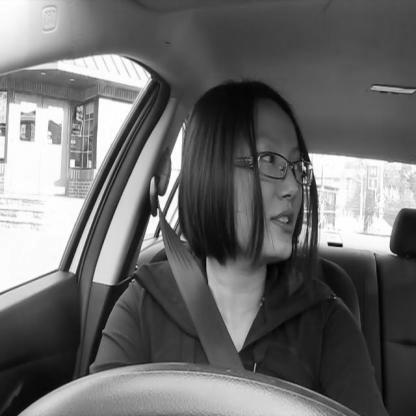seatbelt: (140, 77, 317, 371)
